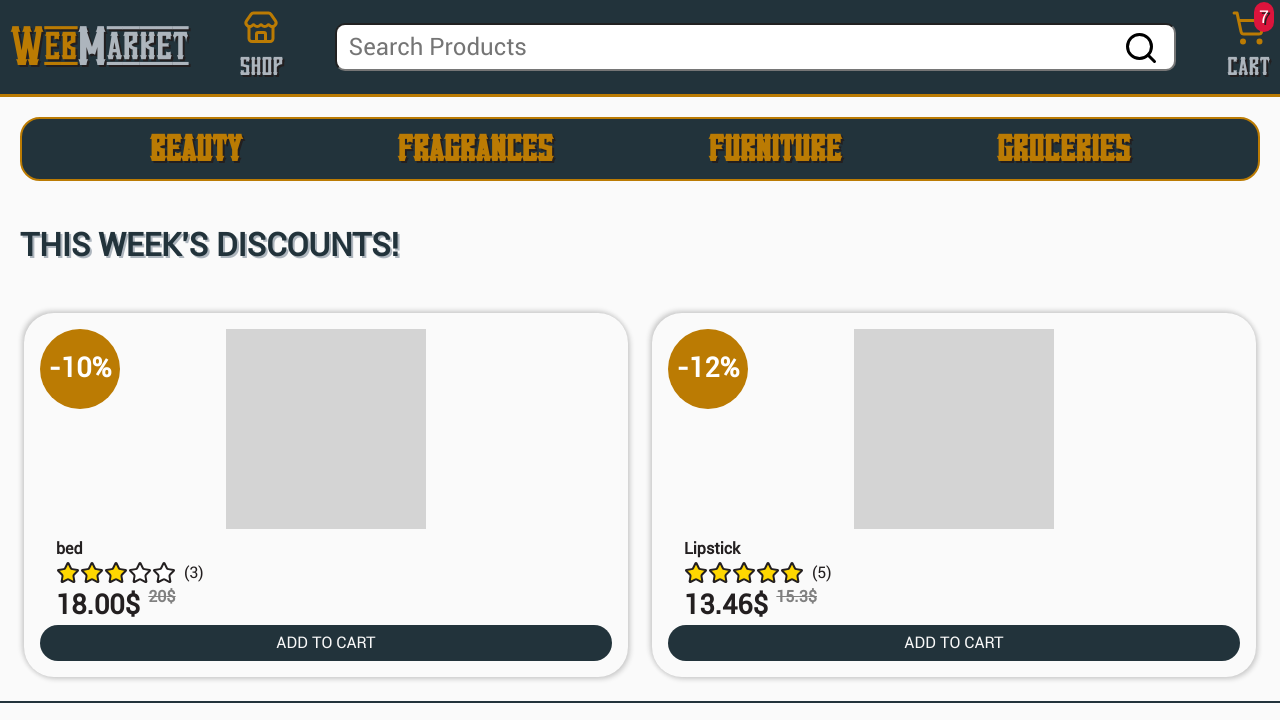
Scenario: Main navigation › WebMarket logo redirects to the home page
The image size is (1280, 720).
Click the link "WebMarket": [99, 47] box left=10, top=11, right=188, bottom=83
(page scrolled)
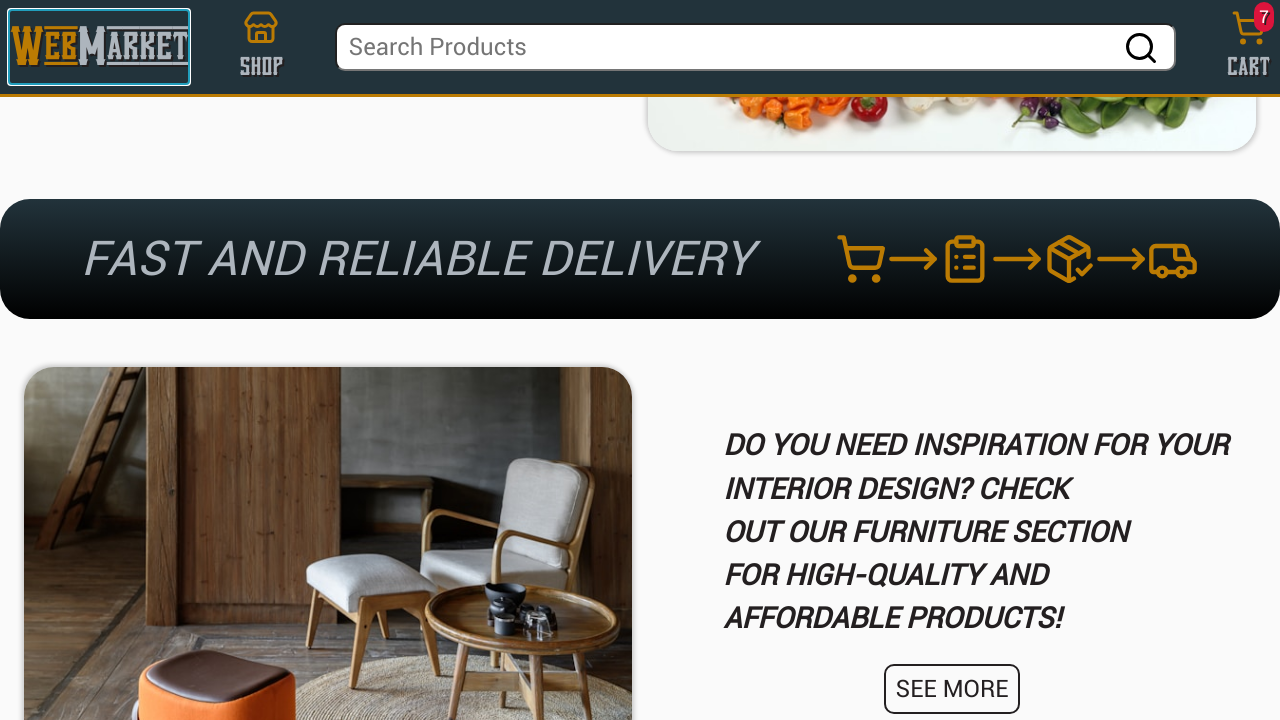
expect the text "FAST AND RELIABLE DELIVERY" is shown: met, box left=81, top=223, right=754, bottom=295
